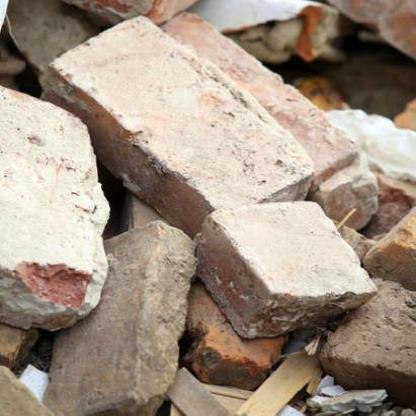brick: (0, 1, 415, 415)
